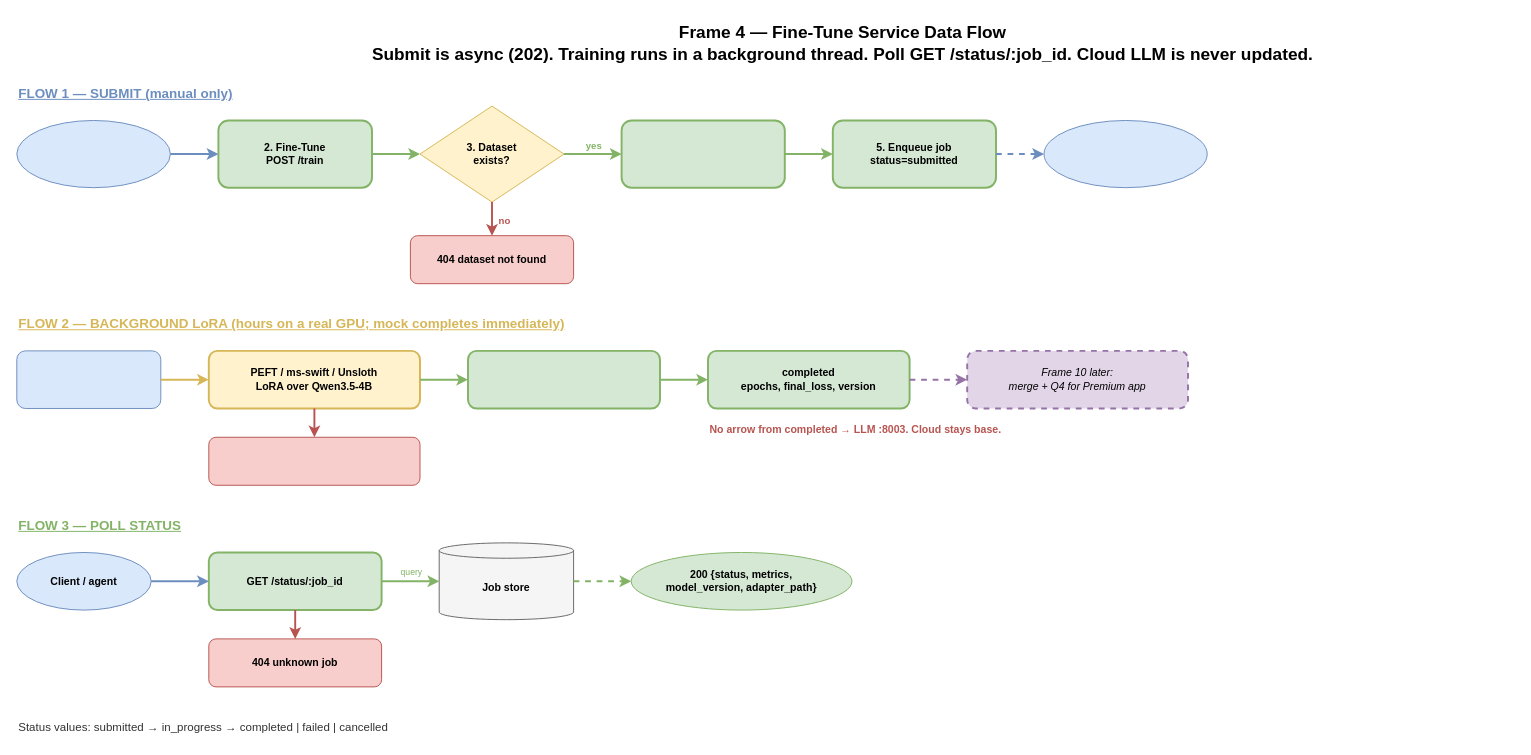
The diagram is 1531 pixels wide and 755 high, and some of its shapes have lost their labels. The shapes that lost their labels are listed below. From the top down, each one's centre as x and y in pixels, then its label:
At point (93, 154): "1. Manual POST /api/finetune".
At point (702, 153): "4. Convert triples → LoRA examples".
At point (1125, 154): "6. 202 Accepted {job_id, status}".
At point (88, 379): "in_progress".
At point (563, 379): "Save adapter + Markdown training log".
At point (314, 460): "failed".
